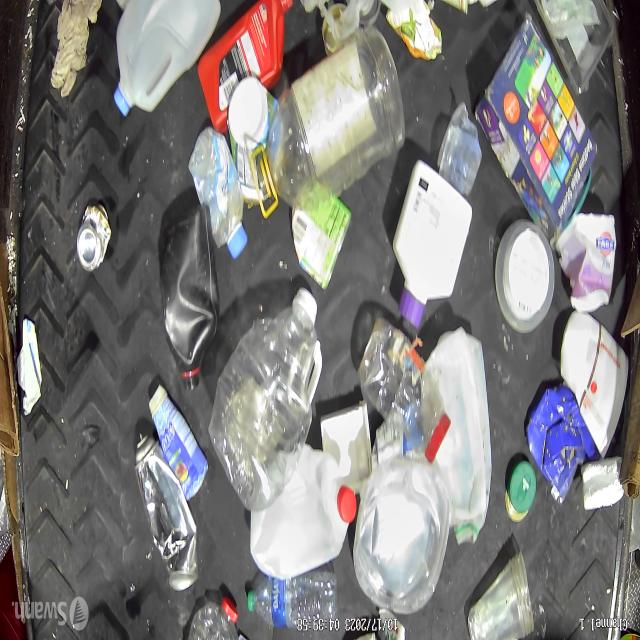can: (134, 436, 198, 588), (76, 201, 112, 272), (581, 455, 623, 511)
milk_jug: (251, 442, 351, 580), (111, 0, 220, 118), (432, 330, 491, 548)
non_white_jug: (197, 0, 293, 135), (160, 196, 218, 391)
plastic_bottle: (255, 26, 406, 209), (210, 290, 322, 508), (356, 315, 450, 463), (188, 127, 248, 259), (246, 566, 336, 630), (180, 594, 241, 640)
